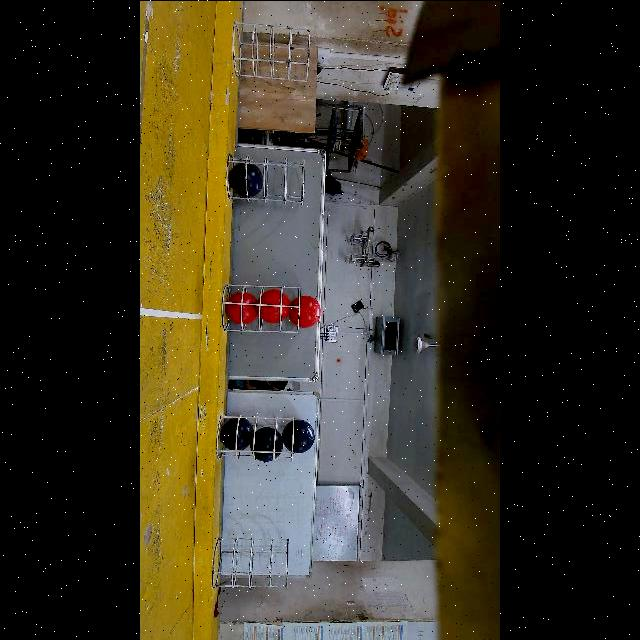P: (229, 162, 263, 196), (282, 417, 315, 451), (221, 417, 254, 449), (251, 427, 283, 460)
R: (257, 289, 289, 322), (226, 292, 259, 323), (289, 295, 321, 326)
S: (232, 16, 312, 82), (214, 529, 292, 591), (220, 406, 298, 466), (215, 282, 303, 334), (228, 149, 308, 205)
